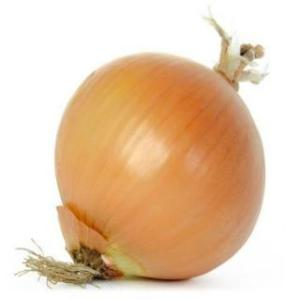onion: (52, 32, 268, 284)
